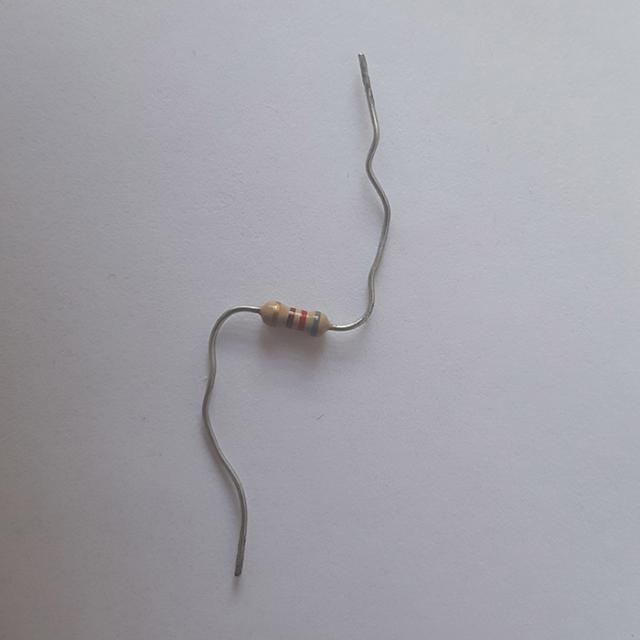brown: (287, 308, 295, 327)
gold: (271, 301, 280, 325)
grey: (312, 310, 321, 335)
red: (298, 310, 307, 330)
resistor: (257, 296, 338, 349)
